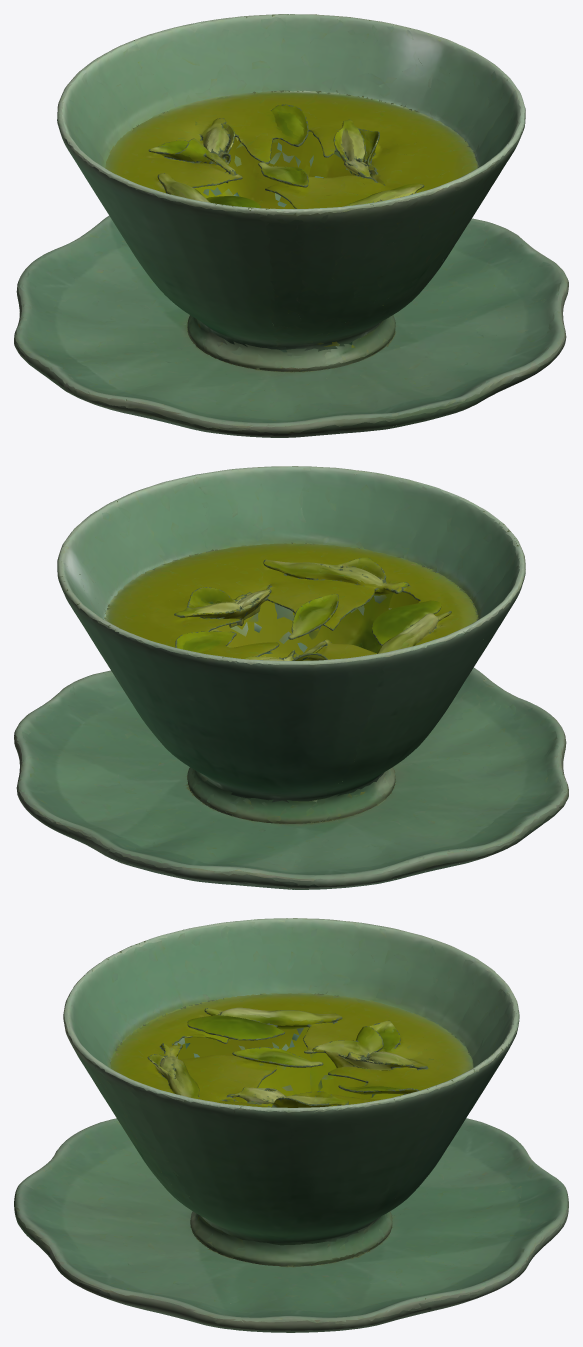
Rendered from tea.glb.
3 views of the same model, one above another, from view 1: azimuth 30°, elevation 25°; view 2: azimuth 150°, elevation 25°; view 3: azimuth 270°, elevation 25° (orthographic). The views are drawn at different scales.
Parts seen in each view (by area): view 1: tea_lux3d; view 2: tea_lux3d; view 3: tea_lux3d.
Part boxes in pixels (left/top/right/bottom): tea_lux3d: left=14, top=14, right=568, bottom=437; tea_lux3d: left=14, top=466, right=568, bottom=889; tea_lux3d: left=14, top=918, right=568, bottom=1332.
Size of the model in its own units: 5.99 by 2.82 by 6.
1 material, 1 textured.
